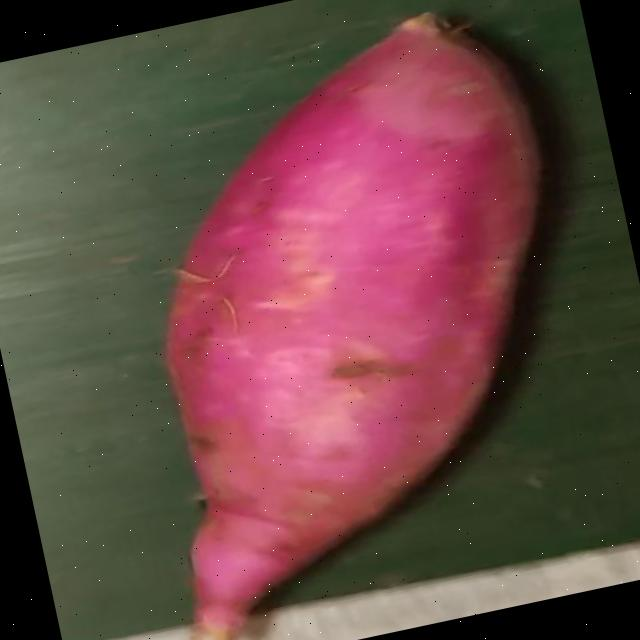Sweet Potato: (162, 7, 546, 630)
